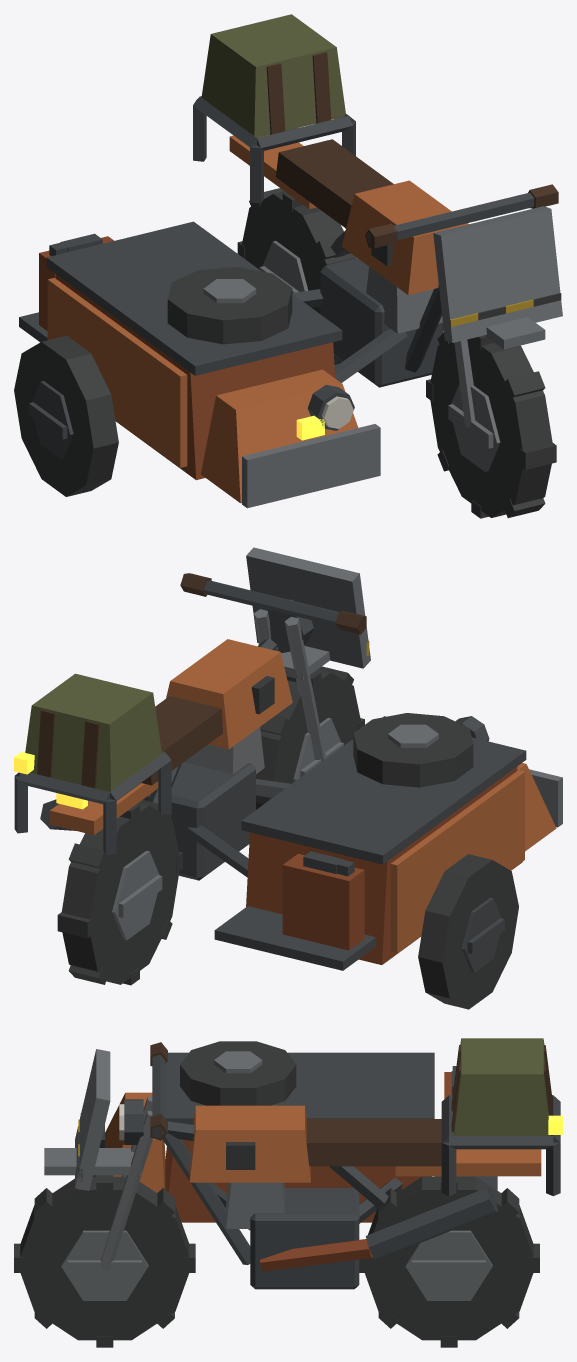
Rendered from vehicle_motorbike_l3.glb.
The picture shows the model from 3 angles, top to bottom: view 1: azimuth 30°, elevation 25°; view 2: azimuth 150°, elevation 25°; view 3: azimuth 270°, elevation 25°; orthographic projection. The views are drawn at different scales.
Visible parts, largest first — view 1: body, wheel_f, wheel_s, wheel_r; view 2: body, wheel_r, wheel_s, wheel_f; view 3: body, wheel_f, wheel_r.
Boxes of the visible parts, x1=… form: body: x1=19, y1=14, x2=562, y2=508; wheel_f: x1=426, y1=332, x2=556, y2=518; wheel_s: x1=14, y1=335, x2=118, y2=496; wheel_r: x1=237, y1=188, x2=356, y2=366; body: x1=14, y1=547, x2=562, y2=970; wheel_r: x1=57, y1=800, x2=182, y2=985; wheel_s: x1=418, y1=854, x2=518, y2=1009; wheel_f: x1=256, y1=666, x2=364, y2=809; body: x1=44, y1=1038, x2=562, y2=1289; wheel_f: x1=14, y1=1175, x2=195, y2=1347; wheel_r: x1=359, y1=1176, x2=539, y2=1347.
Bounding box in the file's own units: 1.79 × 1.29 × 2.26.
